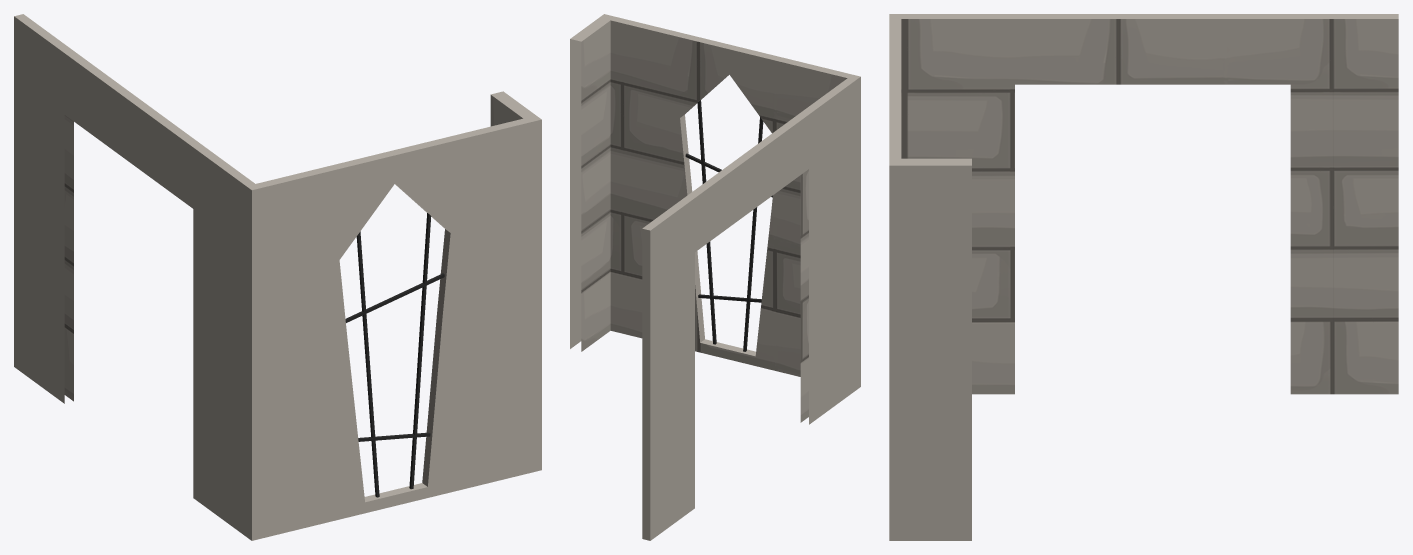
Rendered from SM_wallend.fbx.
The picture shows the model from 3 angles, left to right: view 1: azimuth 30°, elevation 25°; view 2: azimuth 150°, elevation 25°; view 3: azimuth 270°, elevation 25°; orthographic projection. The views are drawn at different scales.
Visible parts, largest first — view 1: SM_Wallend; view 2: SM_Wallend; view 3: SM_Wallend.
Boxes of the visible parts, <box> form: SM_Wallend: <box>14,14,541,540</box>; SM_Wallend: <box>570,14,860,540</box>; SM_Wallend: <box>889,14,1398,540</box>.
Bounding box in the file's own units: 865 × 1000 × 1229.
Materials: 1 (1 with a texture image).
